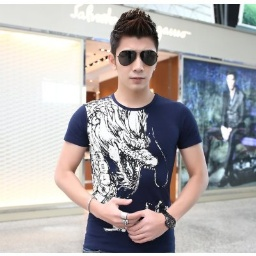face: (111, 9, 160, 91)
